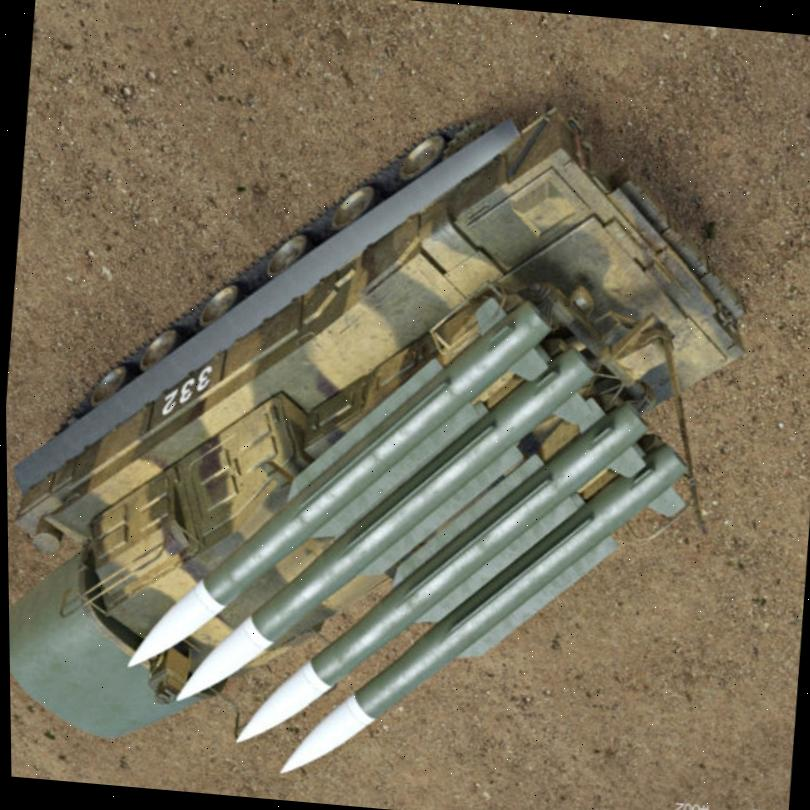armored_car: (1, 48, 781, 810)
